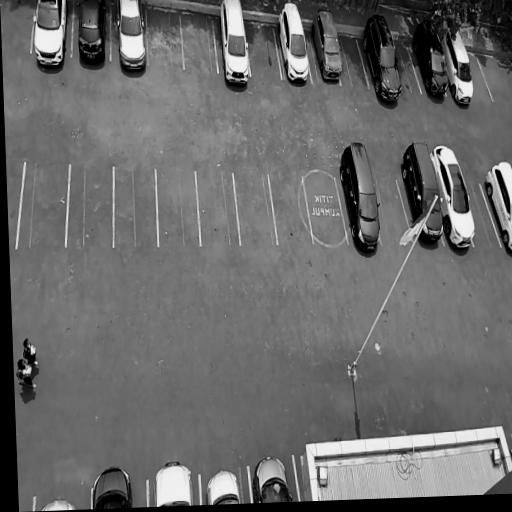Car: (336, 138, 384, 262), (428, 143, 480, 254), (398, 137, 446, 248), (359, 11, 406, 106), (409, 17, 450, 99), (215, 0, 251, 88), (275, 1, 311, 88), (482, 158, 512, 261), (440, 27, 477, 109), (308, 5, 344, 83), (116, 0, 148, 72), (89, 463, 134, 509), (75, 0, 106, 66), (151, 460, 194, 507), (252, 456, 292, 503), (206, 465, 242, 505), (38, 496, 78, 511)
Space Available: (17, 162, 69, 247), (66, 164, 112, 247), (114, 167, 157, 247), (156, 171, 200, 247), (196, 171, 239, 246), (234, 174, 277, 246), (303, 176, 348, 244), (269, 176, 313, 244), (375, 179, 413, 243), (245, 20, 282, 82), (147, 7, 184, 69), (466, 181, 501, 246), (181, 12, 217, 71), (1, 0, 35, 53), (338, 36, 368, 86), (7, 161, 24, 246), (395, 42, 422, 94), (467, 52, 494, 100)
